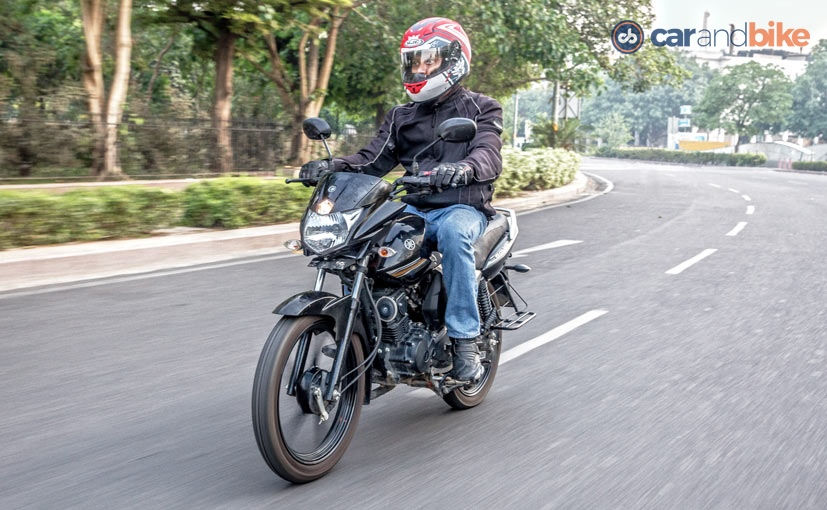helmet: (396, 18, 472, 96)
